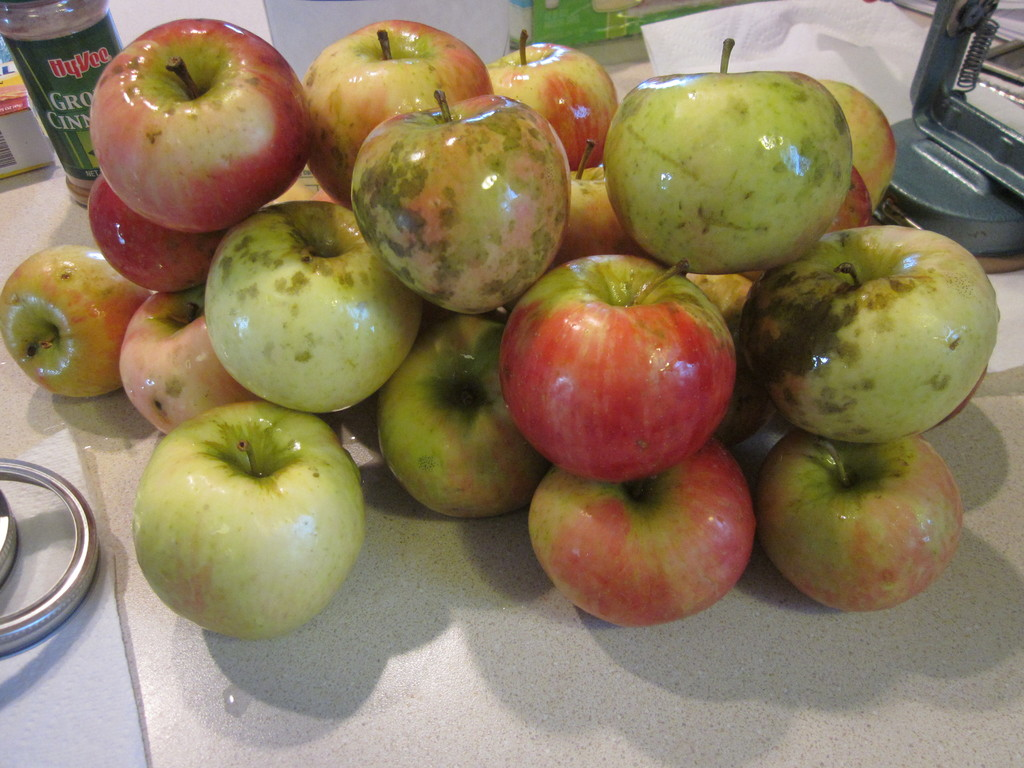Apple: (3, 13, 1000, 633), (125, 420, 369, 656)
